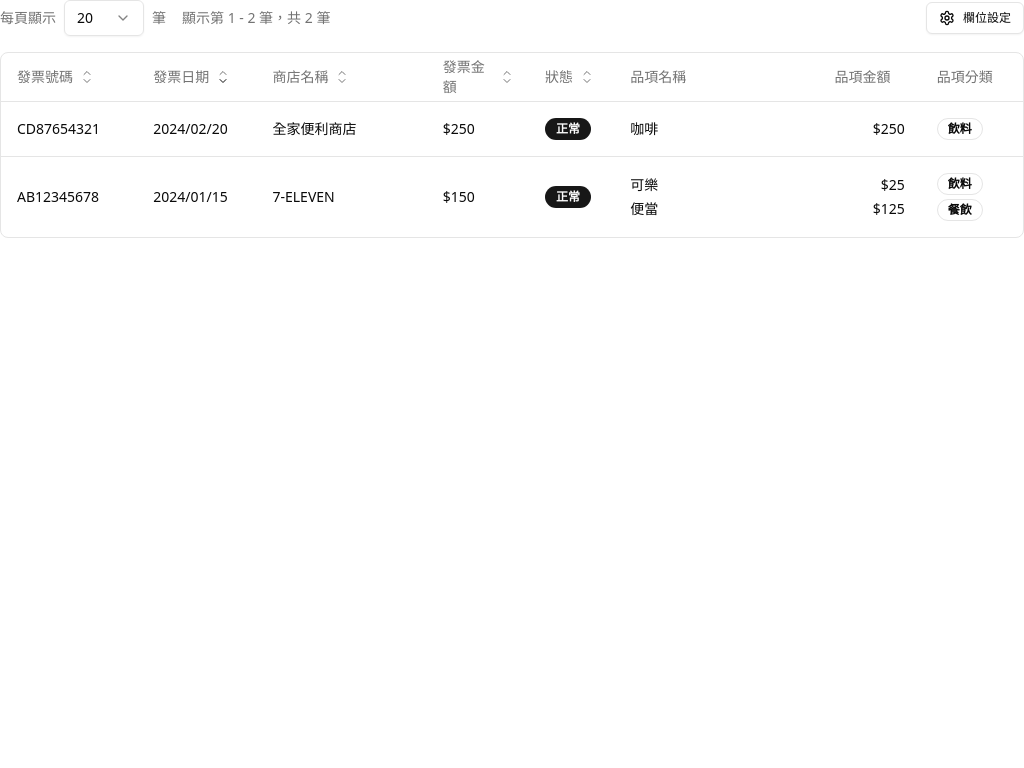
Test case: DataTable › should handle column visibility toggle
# Find and click the column settings button
What coordinates should you click on to do the following:
click the button "欄位設定"
I would click on:
 (975, 18)
Its box is [926,2,1023,34].
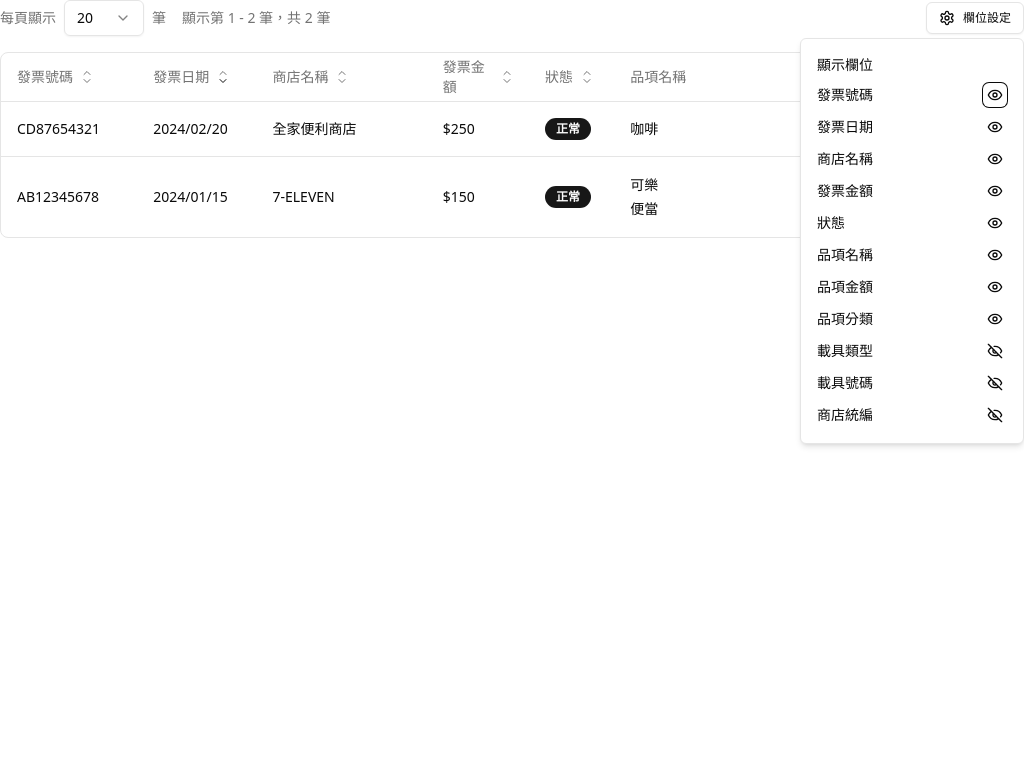
Expected: the heading "顯示欄位" is shown, [817,55,873,74]
